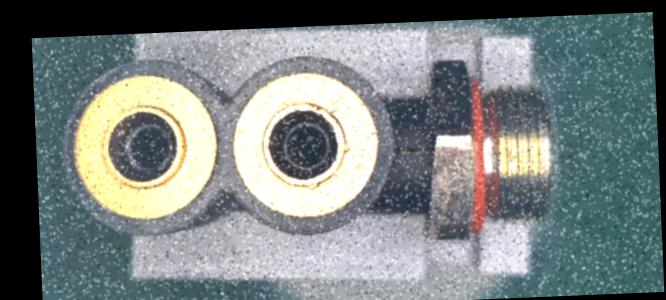craze: (391, 142, 435, 157)
